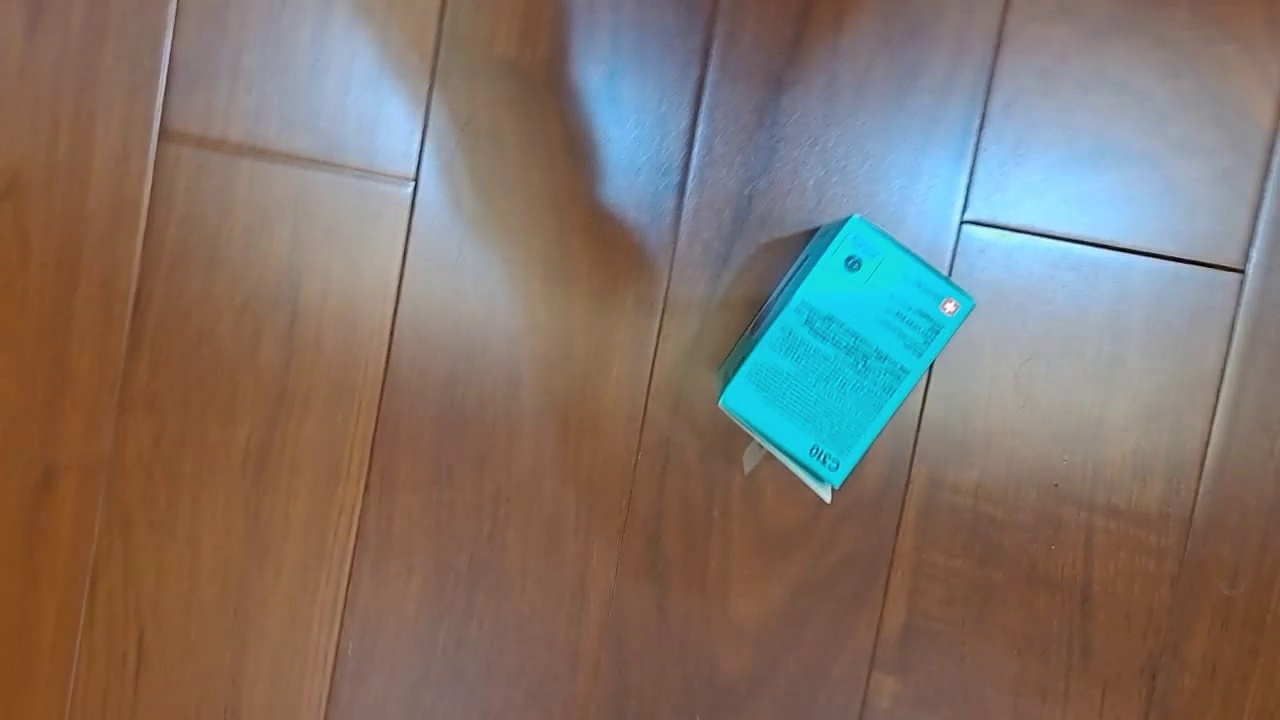webcam: (716, 212, 977, 506)
